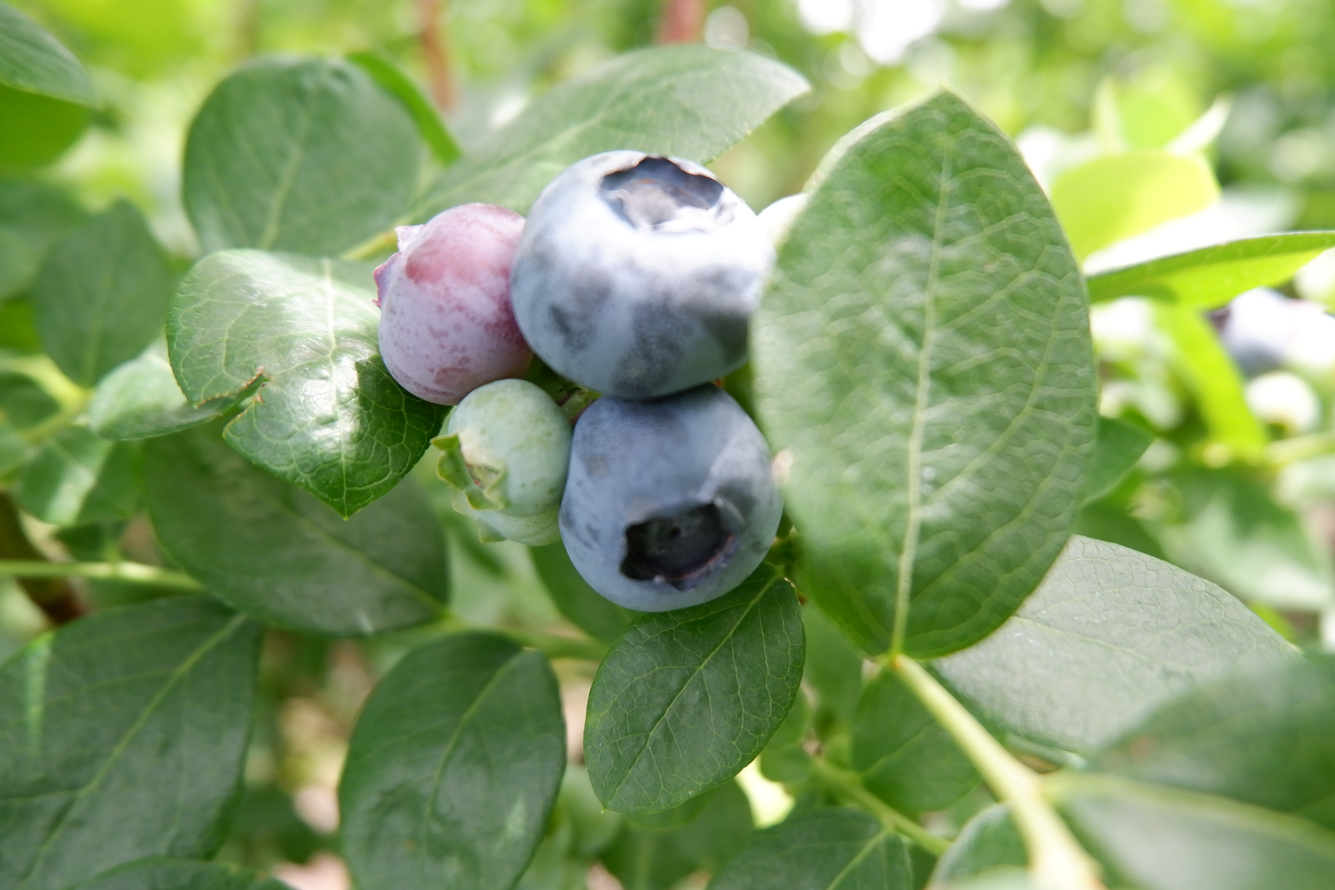Immature: (377, 205, 529, 406), (430, 378, 575, 518), (453, 491, 562, 546), (757, 194, 807, 247)
Mature: (509, 152, 765, 394), (562, 389, 779, 608)
